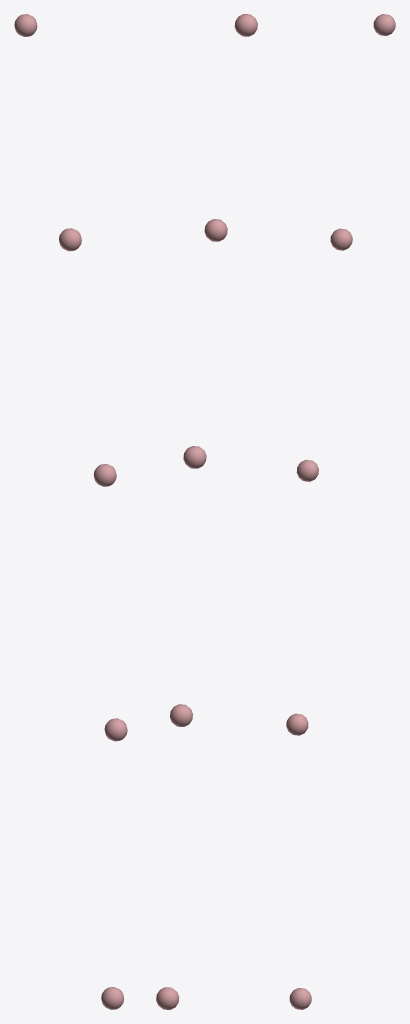
3 views of the same model, side by side, from view 1: azimuth 90°, elevation 25°; view 2: azimuth 210°, elevation 25°; view 3: azimuth 270°, elevation 25° (orthographic). The views are drawn at different scales.
Visible parts, largest first — view 1: ZA_dbe63beb8cd3e0c6; view 2: ZA_dbe63beb8cd3e0c6; view 3: ZA_dbe63beb8cd3e0c6.
Part boxes in pixels (bbox=[...]): ZA_dbe63beb8cd3e0c6: bbox=[14, 14, 127, 1009]; ZA_dbe63beb8cd3e0c6: bbox=[156, 14, 257, 1009]; ZA_dbe63beb8cd3e0c6: bbox=[286, 14, 395, 1009].
Bounding box in the file's own units: 0.00703 × 0.1242 × 0.0126.
